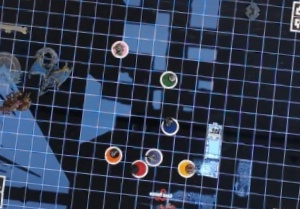blue: (158, 115, 182, 138)
green: (157, 67, 181, 90)
orange: (99, 142, 125, 168)
pink: (109, 37, 132, 59)
red: (129, 157, 151, 179)
violet: (142, 145, 164, 167)
yellow: (175, 155, 200, 179)
